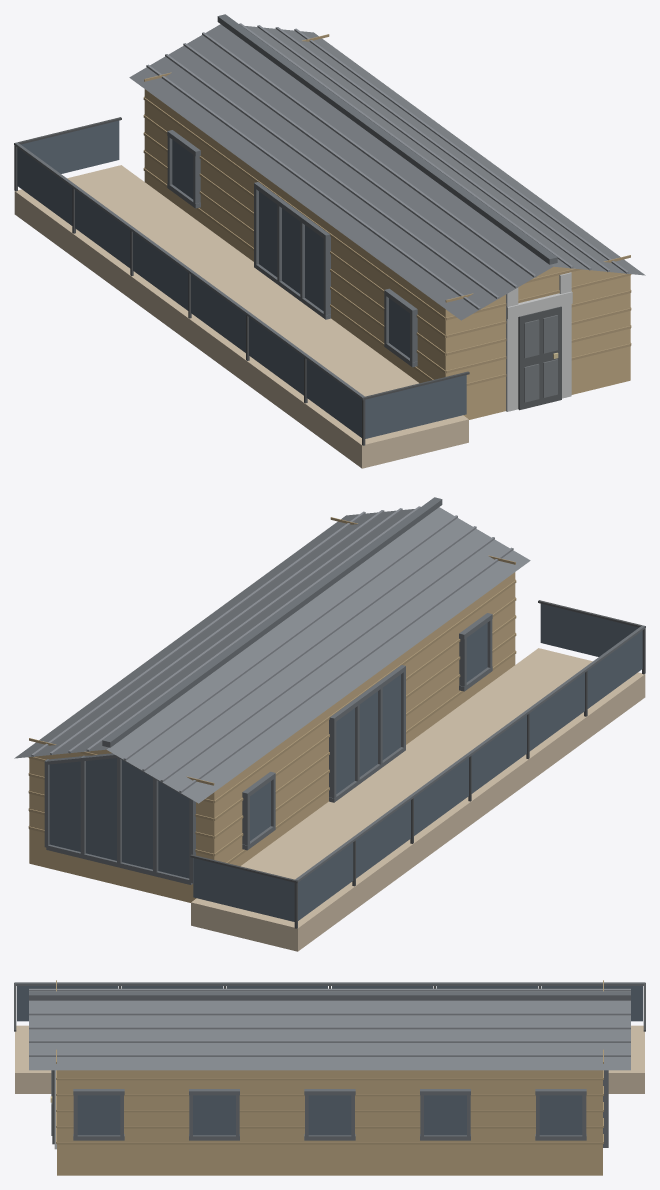
The picture shows the model from 3 angles, top to bottom: view 1: azimuth 30°, elevation 25°; view 2: azimuth 150°, elevation 25°; view 3: azimuth 270°, elevation 25°; orthographic projection. The views are drawn at different scales.
Parts seen in each view (by area): view 1: slate, larch, door_wood, slate_dk, slate_lt, door_wood_p, window_glass_008, stone_band, window_glass_007, door_dark_p, window_glass_002, window_glass_006 (+11 smaller); view 2: slate, larch, door_wood, slate_dk, slate_lt, window_glass_014, door_wood_p, window_glass_007, window_glass_008, window_glass_001, window_glass_005, window_glass_004 (+9 smaller); view 3: door_wood, slate, slate_dk, slate_lt, door_wood_p, larch, window_glass_015, window_glass_017, window_glass_019, window_glass_016, window_glass_018, window_glass_001 (+6 smaller).
Part boxes in pixels (box(x1,y1,x2,y2)): slate: box(129, 24, 645, 320); larch: box(14, 165, 468, 468); door_wood: box(144, 89, 630, 419); slate_dk: box(14, 14, 557, 399); slate_lt: box(146, 23, 628, 309); door_wood_p: box(143, 34, 631, 385); window_glass_008: box(365, 375, 466, 438); stone_band: box(506, 272, 572, 411); window_glass_007: box(21, 120, 119, 173); door_dark_p: box(524, 315, 557, 402); window_glass_002: box(75, 190, 130, 268); window_glass_006: box(306, 359, 361, 437); slate: box(14, 507, 530, 803); larch: box(191, 648, 645, 951); door_wood: box(29, 572, 515, 902); slate_dk: box(44, 497, 645, 884); slate_lt: box(31, 506, 513, 792); window_glass_014: box(49, 758, 189, 878); door_wood_p: box(28, 517, 516, 863); window_glass_007: box(193, 858, 294, 921); window_glass_008: box(540, 603, 638, 656); window_glass_001: box(298, 842, 353, 920); window_glass_005: box(529, 673, 584, 751); window_glass_004: box(471, 715, 526, 793); door_wood: box(57, 1070, 602, 1175); slate: box(29, 988, 630, 1070); slate_dk: box(15, 982, 644, 1147); slate_lt: box(29, 989, 630, 1056); door_wood_p: box(56, 980, 603, 1144); larch: box(15, 1025, 644, 1093); window_glass_015: box(77, 1095, 120, 1135); window_glass_017: box(308, 1095, 351, 1135); window_glass_019: box(539, 1095, 582, 1135); window_glass_016: box(193, 1095, 235, 1135); window_glass_018: box(424, 1095, 466, 1135); window_glass_001: box(541, 986, 642, 1021).
Bounding box in the file's own units: 6.67 × 3.35 × 13.58.
